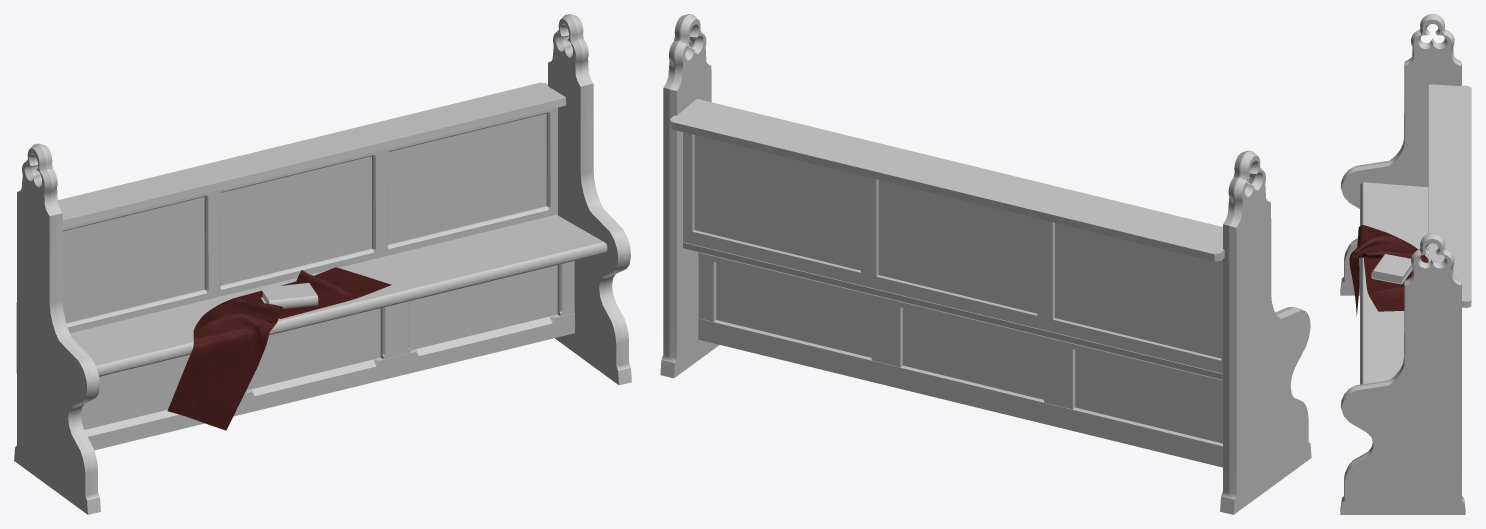
File: bench.fbx
3 views of the same model, side by side, from view 1: azimuth 30°, elevation 25°; view 2: azimuth 150°, elevation 25°; view 3: azimuth 270°, elevation 25° (orthographic). The views are drawn at different scales.
Visible parts, largest first — view 1: Bench, scarf:Mesh, cover004 group1; view 2: Bench; view 3: Bench, scarf:Mesh, cover004 group1, group1 Paper004.
Boxes of the visible parts, x1=… form: Bench: x1=14, y1=14, x2=631, y2=514; scarf:Mesh: x1=167, y1=267, x2=391, y2=430; cover004 group1: x1=260, y1=283, x2=318, y2=309; Bench: x1=660, y1=14, x2=1311, y2=514; Bench: x1=1340, y1=14, x2=1471, y2=514; scarf:Mesh: x1=1349, y1=225, x2=1428, y2=315; cover004 group1: x1=1371, y1=254, x2=1411, y2=284; group1 Paper004: x1=1371, y1=265, x2=1412, y2=283.
Bounding box in the file's own units: 195 × 113 × 48.25.
